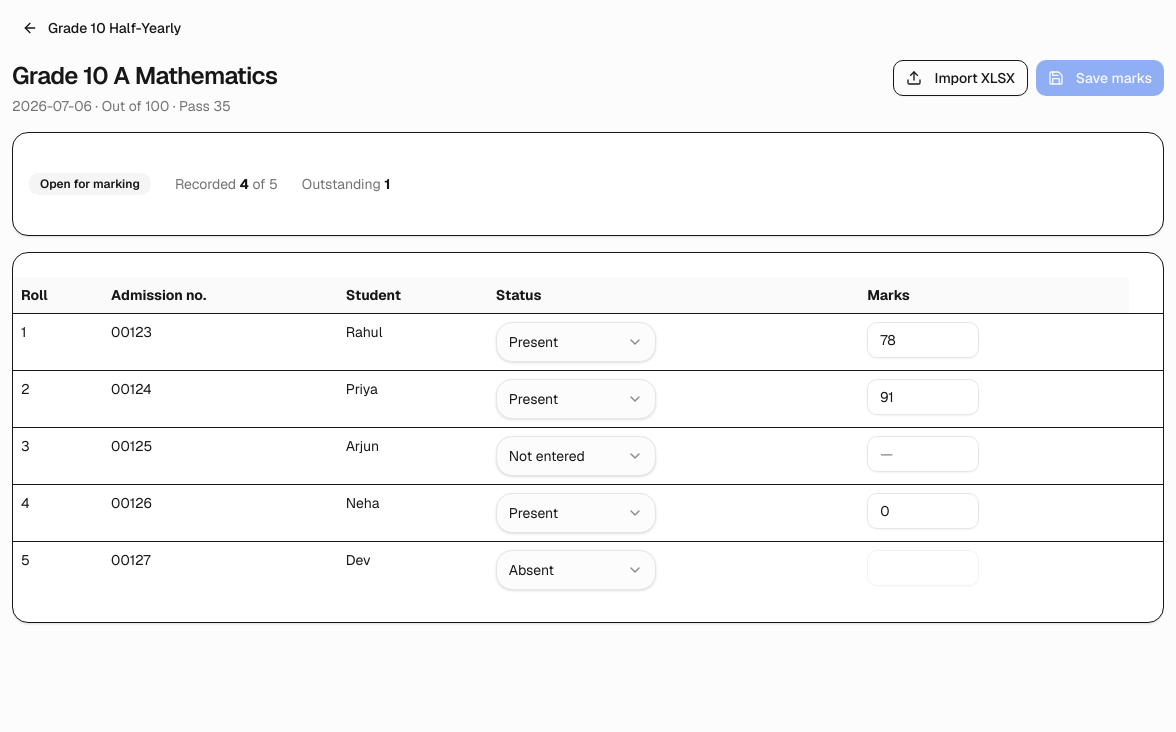
Test: marks register › refuses a mark above the paper's maximum
Check: the text "Rahul" is shown, box [338, 314, 488, 370]
Step 1. Clear the field named "Marks for Rahul" → (923, 340), box [867, 322, 979, 358]
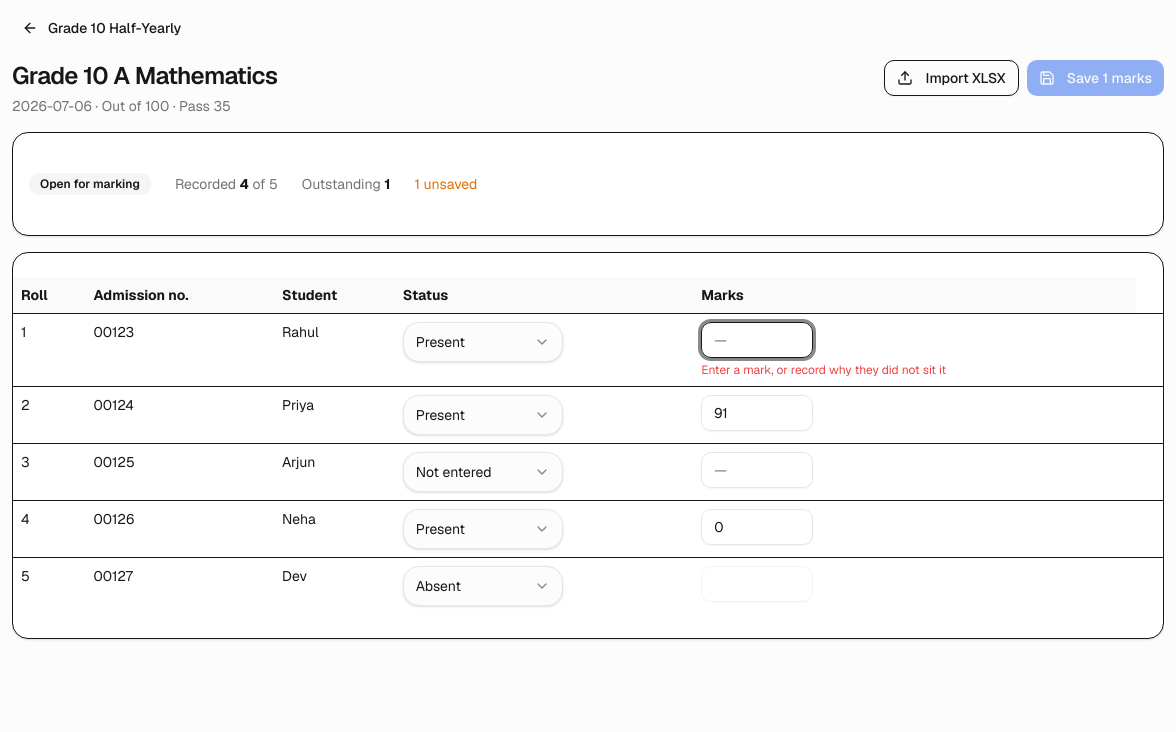
Step 2. Type "120" into the field named "Marks for Rahul" → (757, 340), box [701, 322, 813, 358]
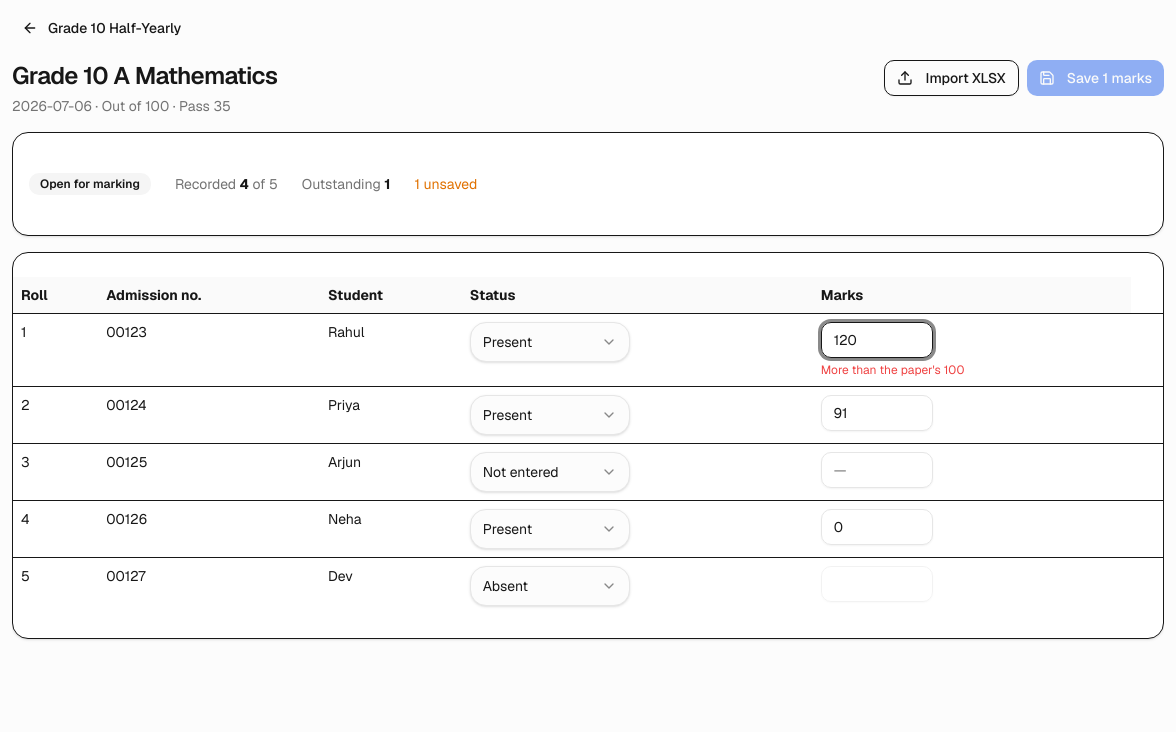
Check: the button "Save 1 marks" is disabled, box [1027, 60, 1164, 96]
Check: the text "More than the paper's 100" is shown, box [821, 362, 964, 378]
